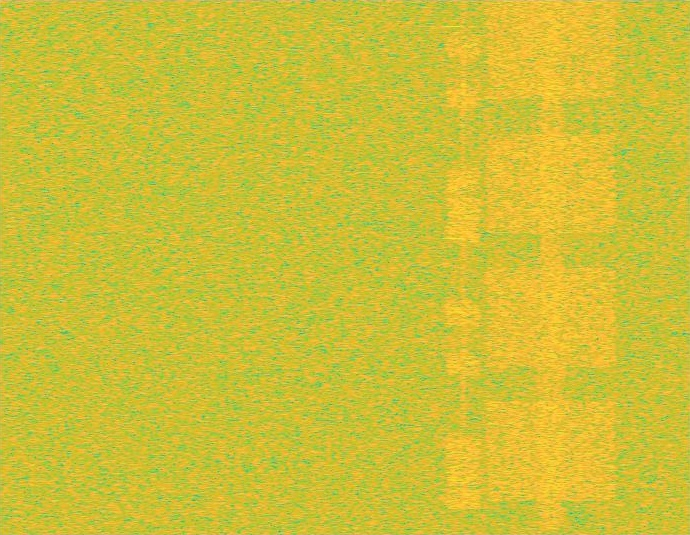5G: (482, 0, 620, 534)
DSSS: (536, 0, 567, 534), (461, 0, 466, 534)
LTE: (446, 0, 481, 534)
Radar: (446, 0, 460, 534)
